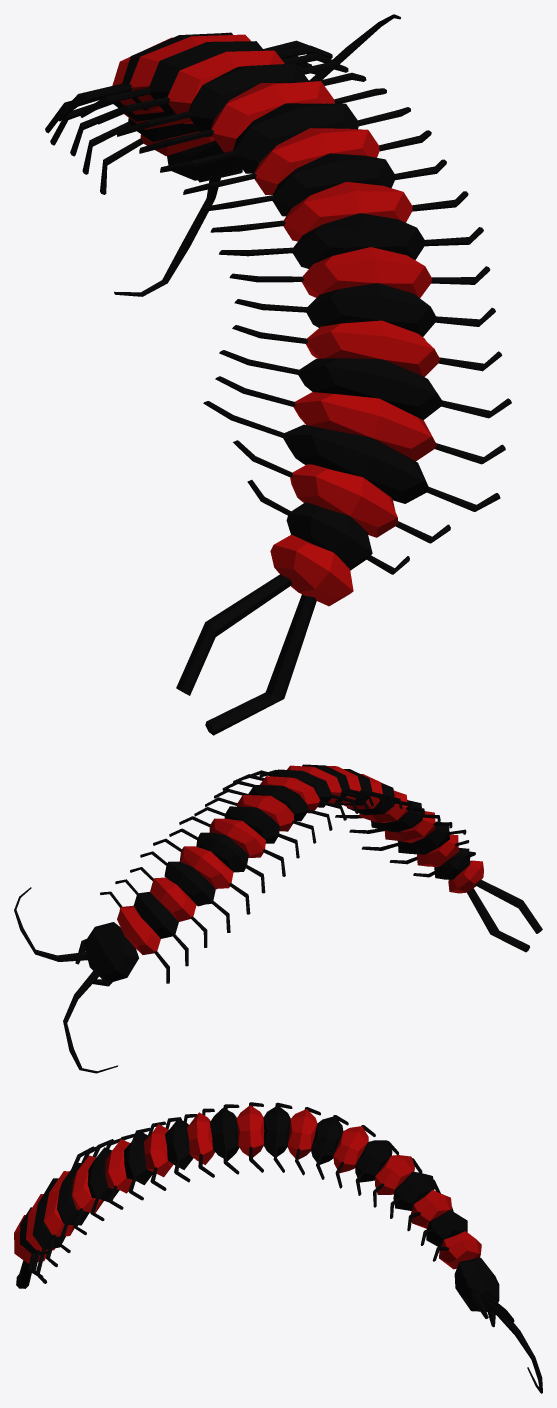
The model's file is Centipede_Curved.fbx.
3 views of the same model, one above another, from view 1: azimuth 30°, elevation 25°; view 2: azimuth 150°, elevation 25°; view 3: azimuth 270°, elevation 25° (orthographic). The views are drawn at different scales.
Parts seen in each view (by area): view 1: group26_pCylinder1; view 2: group26_pCylinder1; view 3: group26_pCylinder1.
Part boxes in pixels (x1,y1,x2,y2): group26_pCylinder1: (45,14,511,735); group26_pCylinder1: (14,764,542,1073); group26_pCylinder1: (14,1102,542,1393).
Bounding box in the file's own units: 4.57 × 3 × 5.99.
